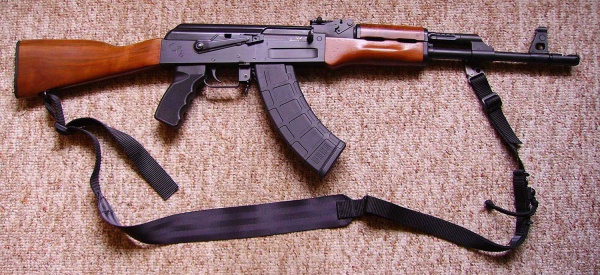ak47: (17, 21, 580, 177)
